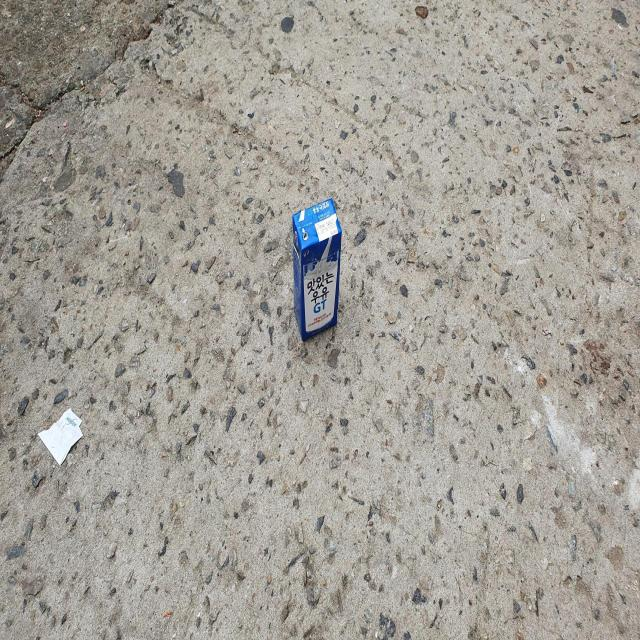paperpack: (293, 197, 342, 340)
